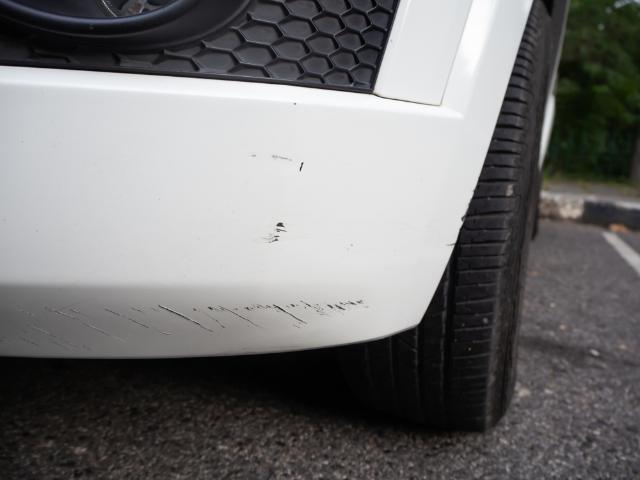scratch: (0, 292, 370, 347), (247, 147, 312, 176), (255, 216, 288, 249)
